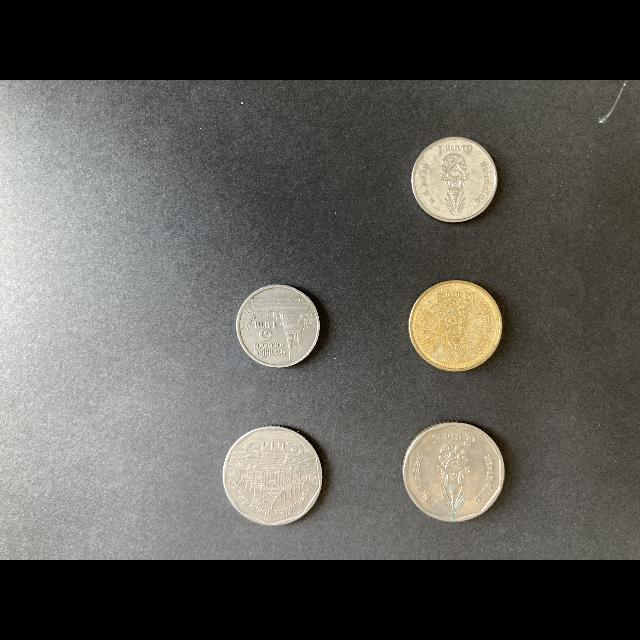1 Bath: (410, 133, 502, 230), (236, 283, 325, 371)
2 Bath: (407, 277, 510, 376)
5 Bath: (221, 424, 330, 532), (403, 420, 509, 526)
